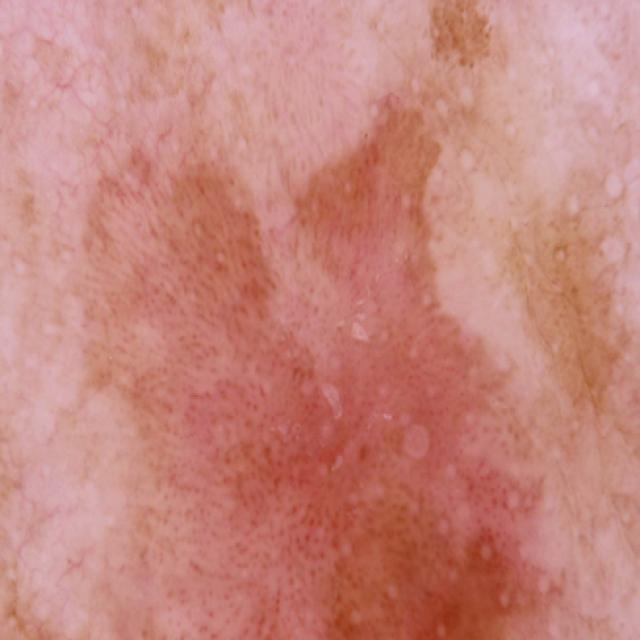Carcinoma: (61, 121, 599, 640)
